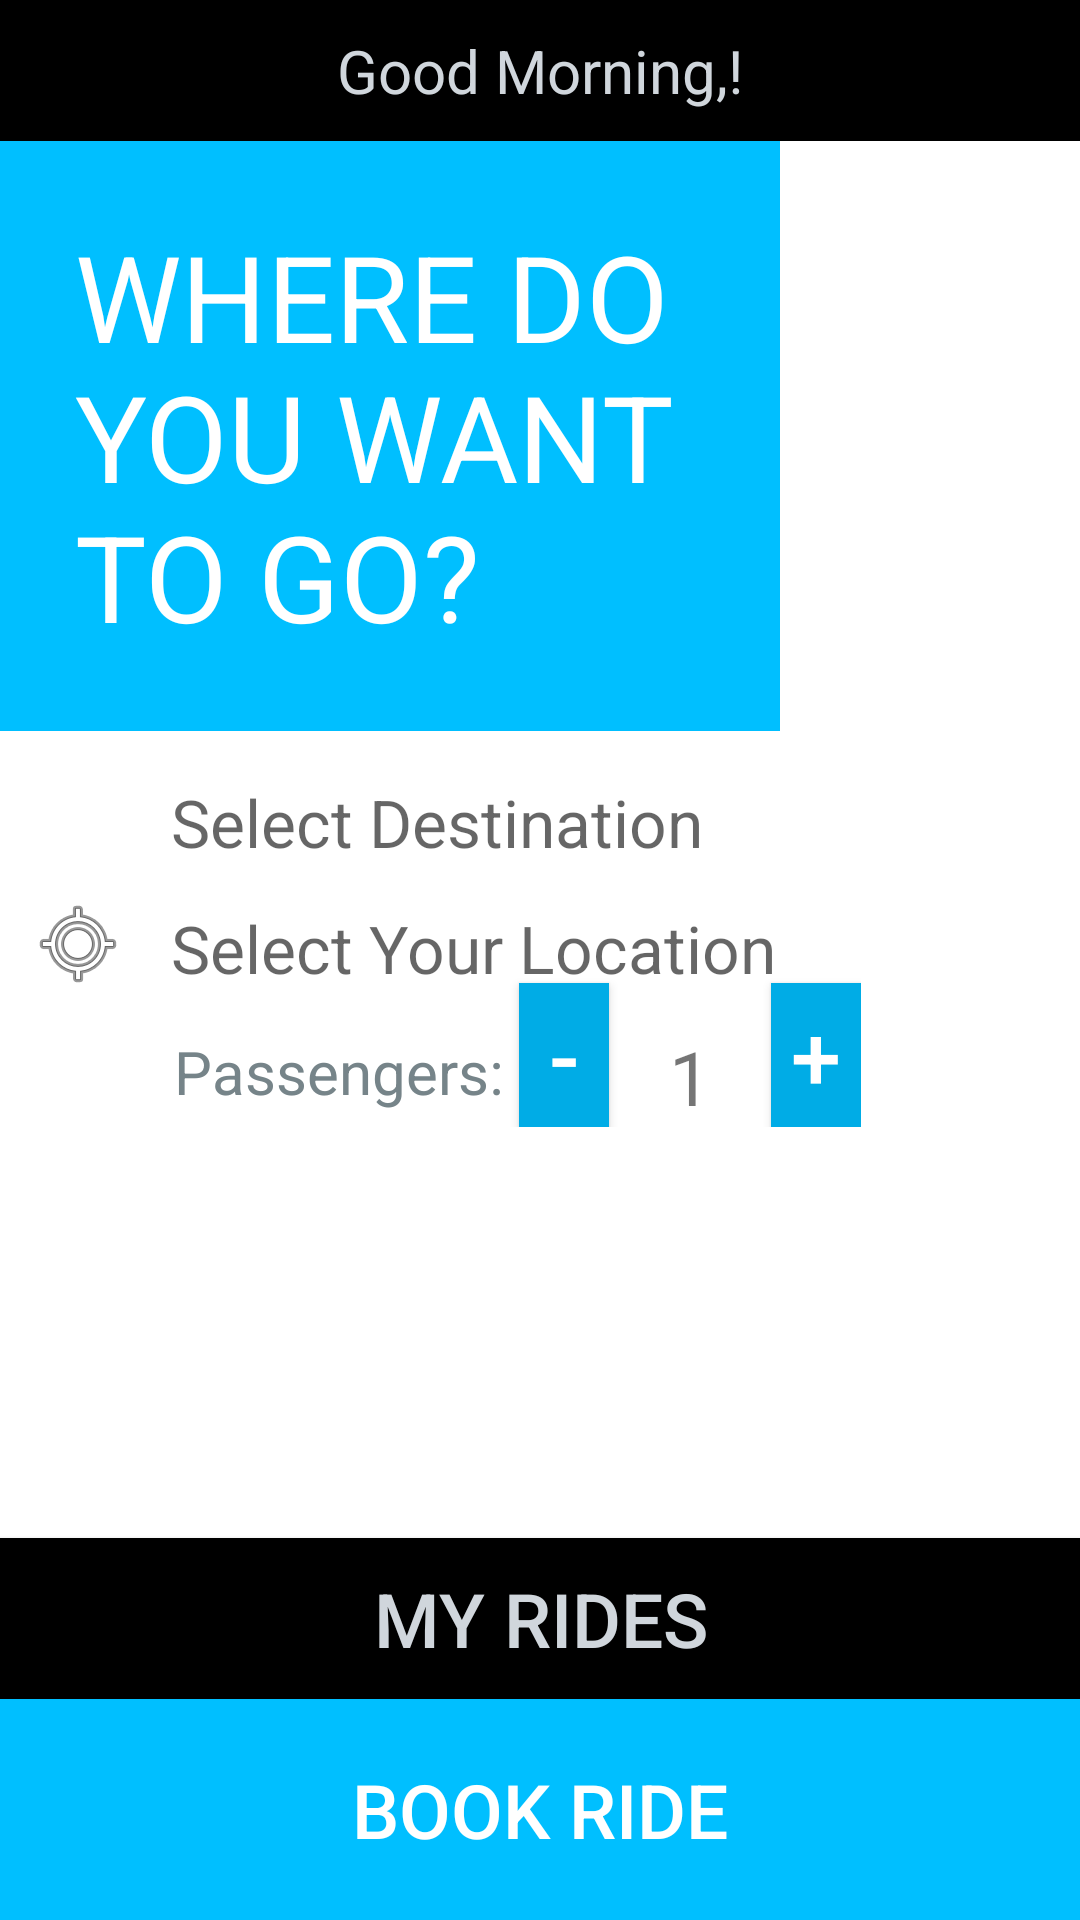

Screen size 1080 x 1920. Icon name, then its box in pixels as box=[x1, y1, x2, y2]:
mylocation: box=[40, 906, 116, 982]
